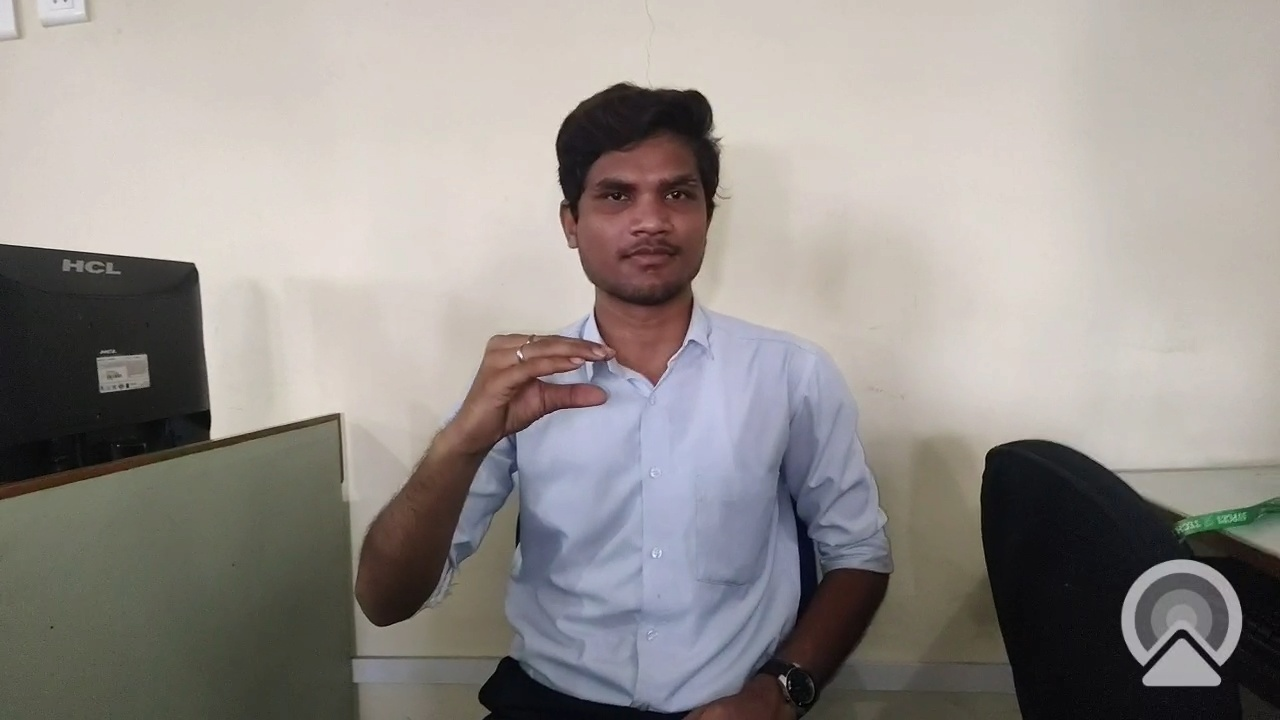No: (422, 309, 624, 467)
